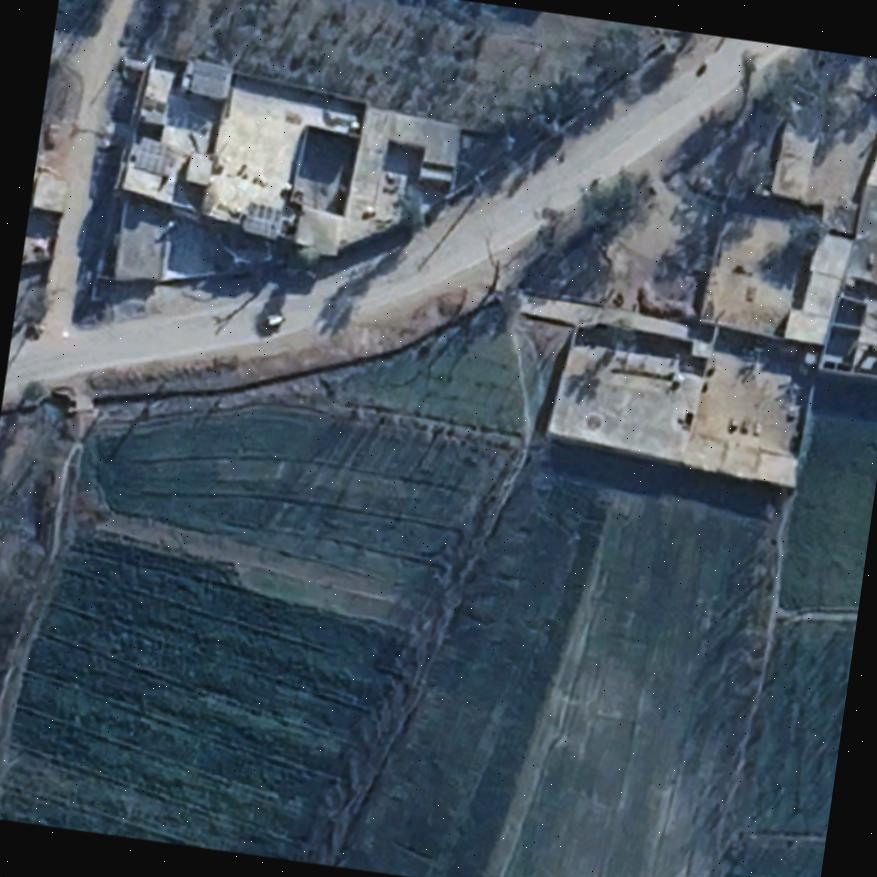Solarpanel: (126, 134, 180, 179), (236, 196, 288, 240)
